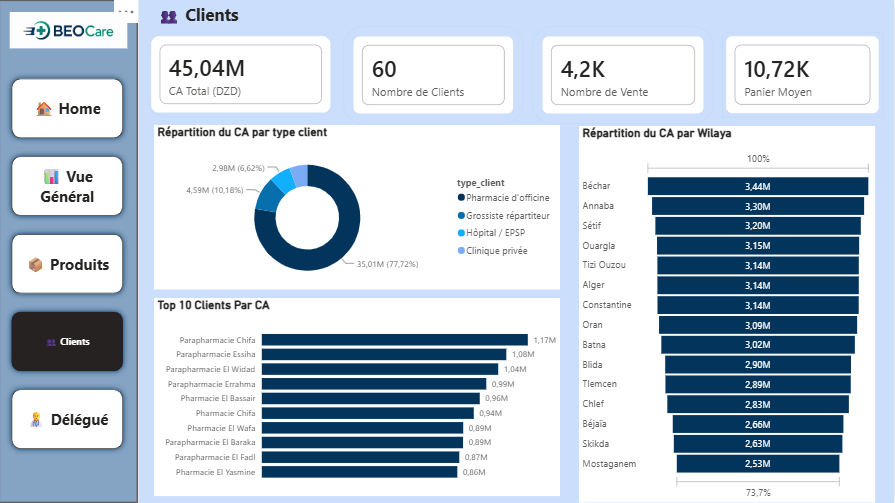

The dashboard page shown, as its layout file describes it:
{"tool":"powerbi","page":{"name":"👥 Clients","canvas":[1280,720],"ordinal":3},"visuals":[{"type":"donutChart","title":"Répartition du CA par type client","fields":{"Category":["Dim_Clients.type_client"],"Y":["Sum(Dim_Clients.CA)"]},"box":[223.3,180,580,235],"z":0},{"type":"barChart","title":"Top 10 Clients Par CA","fields":{"Category":["Dim_Clients.nom_client"],"Y":["Sum(Dim_Clients.CA)"]},"box":[223.3,426.7,580,283.3],"z":1000},{"type":"funnel","title":"Répartition du CA par Wilaya","fields":{"Category":["Dim_Clients.wilaya"],"Y":["Sum(Dim_Clients.CA)"]},"box":[830,181.7,423.3,538.3],"z":2000},{"type":"actionButton","box":[0,0,201,721.2],"z":3000},{"type":"textbox","box":[223.3,0,146.7,53.3],"z":4000},{"type":"cardVisual","fields":{"Data":["Dim_Clients.NB_Clients"]},"box":[493.3,38.6,258.3,140],"z":5000},{"type":"cardVisual","fields":{"Data":["Fait_Ventes.Panier_Moyen"]},"box":[1035,47.5,231,122.1],"z":6000},{"type":"cardVisual","fields":{"Data":["CountNonNull(Fait_Ventes.quantite_vendue)"]},"box":[763.3,38.6,260,140],"z":7000},{"type":"cardVisual","title":"CA Total (DZD)","fields":{"Data":["Sum(Fait_Ventes.montant_net_dzd)"]},"box":[213.3,47.7,268.3,121.7],"z":8000},{"type":"image","box":[5.8,18.7,190,51.7],"z":11000},{"type":"pageNavigator","box":[11.7,105,175,545],"z":12000}]}

Visuals, with their boxes on the page's 1280x720 design canvas (x1, y1, x2, y2). These are canvas units, not pixel positions in the 895x503 screenshot, which may show the page scaled, cropped or inside an application window:
"Répartition du CA par type client" donutChart: (x1=223, y1=180, x2=803, y2=415)
"Top 10 Clients Par CA" barChart: (x1=223, y1=427, x2=803, y2=710)
"Répartition du CA par Wilaya" funnel: (x1=830, y1=182, x2=1253, y2=720)
actionButton: (x1=0, y1=0, x2=201, y2=721)
textbox: (x1=223, y1=0, x2=370, y2=53)
cardVisual - Dim_Clients.NB_Clients: (x1=493, y1=39, x2=752, y2=179)
cardVisual - Fait_Ventes.Panier_Moyen: (x1=1035, y1=48, x2=1266, y2=170)
cardVisual - CountNonNull(Fait_Ventes.quantite_vendue): (x1=763, y1=39, x2=1023, y2=179)
"CA Total (DZD)" cardVisual: (x1=213, y1=48, x2=482, y2=169)
image: (x1=6, y1=19, x2=196, y2=70)
pageNavigator: (x1=12, y1=105, x2=187, y2=650)
